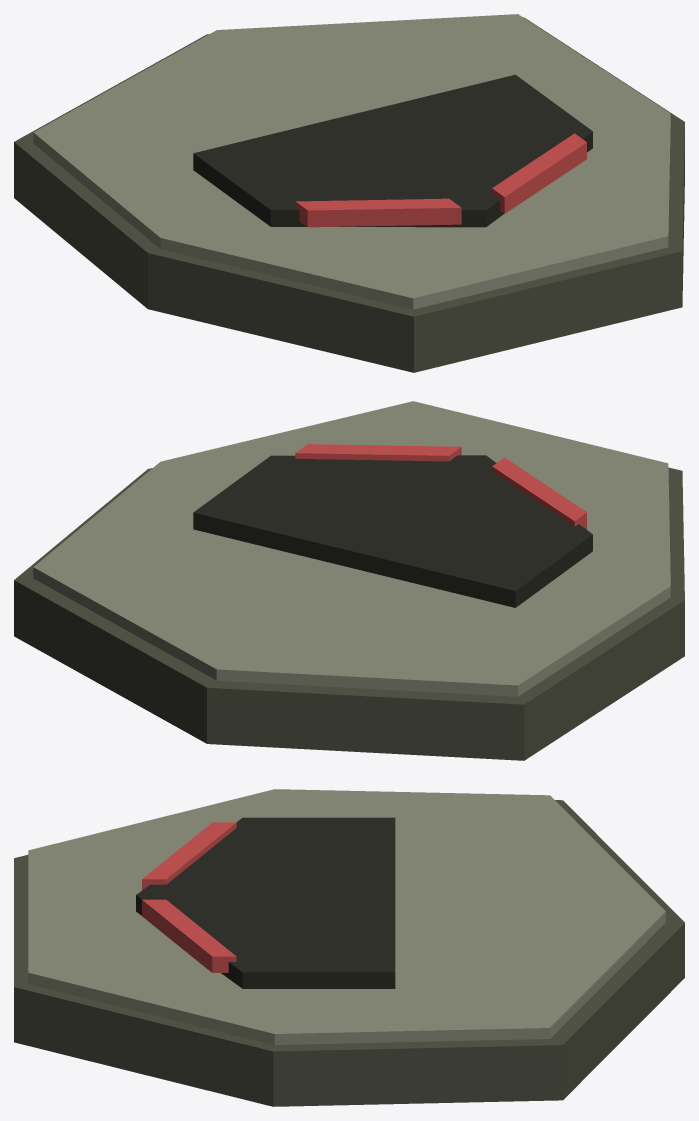
File: vge_mech_targeting_relay.obj
3 views of the same model, one above another, from view 1: azimuth 30°, elevation 25°; view 2: azimuth 150°, elevation 25°; view 3: azimuth 270°, elevation 25° (orthographic).
Parts seen in each view (by area): view 1: vge_mech_targeting_relay_1, vge_mech_targeting_relay_0, vge_mech_targeting_relay_2, vge_mech_targeting_relay_3, vge_mech_targeting_relay_4; view 2: vge_mech_targeting_relay_1, vge_mech_targeting_relay_0, vge_mech_targeting_relay_2, vge_mech_targeting_relay_4, vge_mech_targeting_relay_3; view 3: vge_mech_targeting_relay_1, vge_mech_targeting_relay_0, vge_mech_targeting_relay_2, vge_mech_targeting_relay_4, vge_mech_targeting_relay_3.
Part boxes in pixels (left/top/right/bottom): vge_mech_targeting_relay_1: left=33, top=14, right=670, bottom=309; vge_mech_targeting_relay_0: left=14, top=17, right=684, bottom=372; vge_mech_targeting_relay_2: left=193, top=74, right=592, bottom=227; vge_mech_targeting_relay_3: left=295, top=198, right=461, bottom=227; vge_mech_targeting_relay_4: left=492, top=133, right=586, bottom=213; vge_mech_targeting_relay_1: left=33, top=401, right=670, bottom=696; vge_mech_targeting_relay_0: left=14, top=467, right=684, bottom=760; vge_mech_targeting_relay_2: left=193, top=455, right=592, bottom=607; vge_mech_targeting_relay_4: left=295, top=444, right=461, bottom=461; vge_mech_targeting_relay_3: left=492, top=457, right=586, bottom=529; vge_mech_targeting_relay_1: left=28, top=789, right=665, bottom=1044; vge_mech_targeting_relay_0: left=14, top=800, right=684, bottom=1106; vge_mech_targeting_relay_2: left=136, top=817, right=395, bottom=988; vge_mech_targeting_relay_4: left=142, top=899, right=236, bottom=972; vge_mech_targeting_relay_3: left=142, top=822, right=236, bottom=890.
Bounding box in the file's own units: 2 × 0.32 × 2.2.
